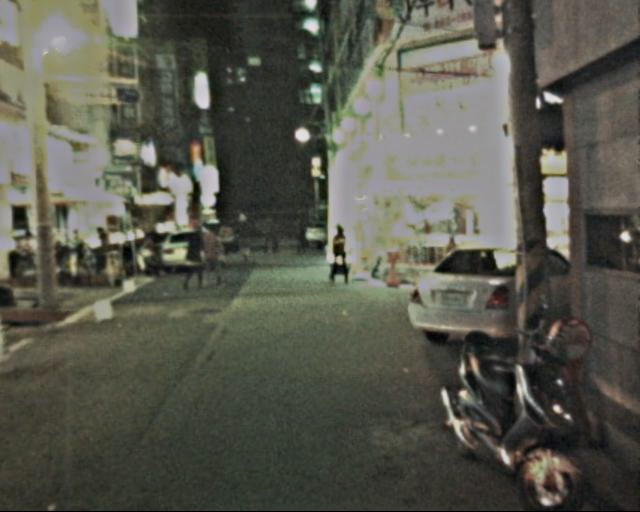person: (322, 221, 352, 285), (177, 224, 205, 288), (198, 224, 222, 283), (234, 212, 253, 259), (287, 217, 304, 253), (260, 217, 276, 254)
